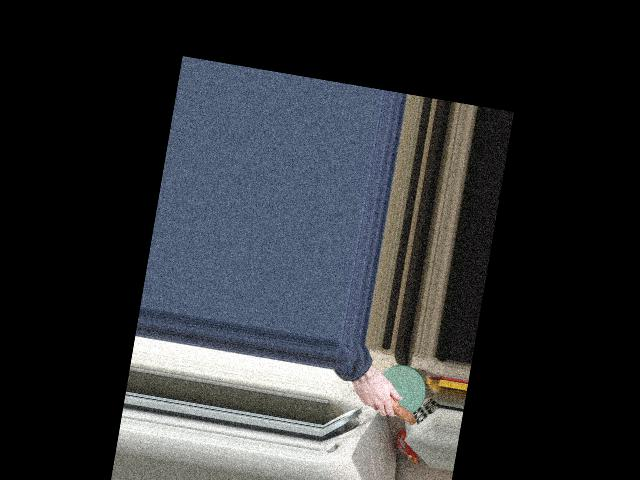sweet_potato: (363, 378, 419, 425)
